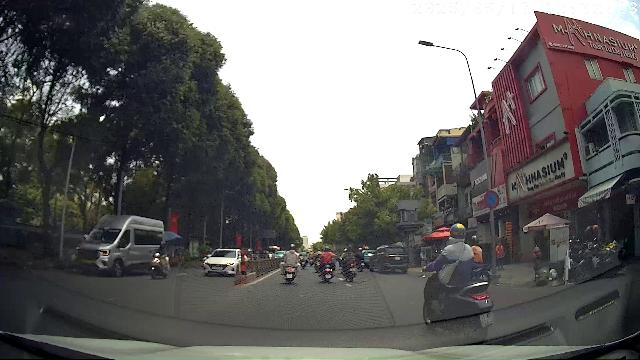131a-cam-do-xe: (484, 190, 499, 208)
